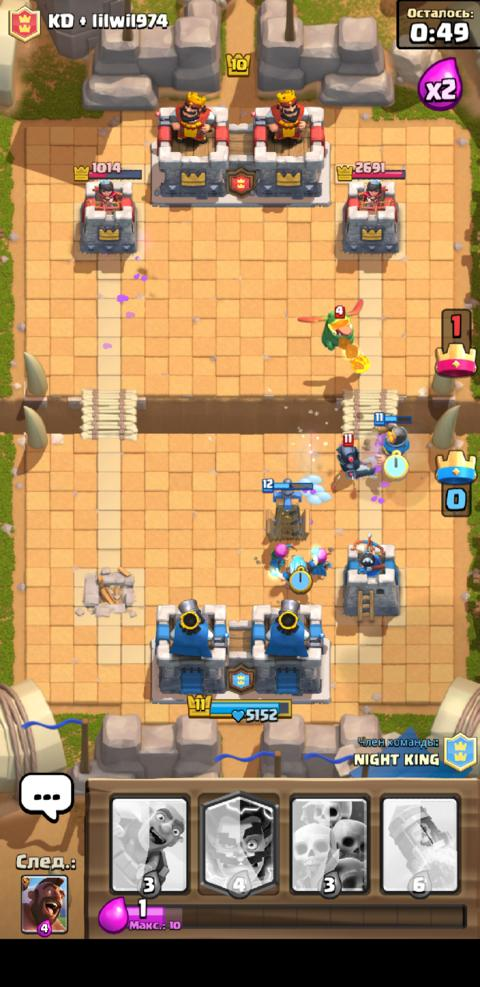ally_archer: (308, 544, 332, 579), (268, 543, 296, 571)
ally_ice_wizard: (269, 545, 318, 590)
ally_knight: (372, 410, 411, 470)
ally_tesla: (260, 475, 314, 541)
enemy_baby_dragon: (296, 298, 363, 350)
enemy_mini_pekka: (334, 431, 376, 482)
